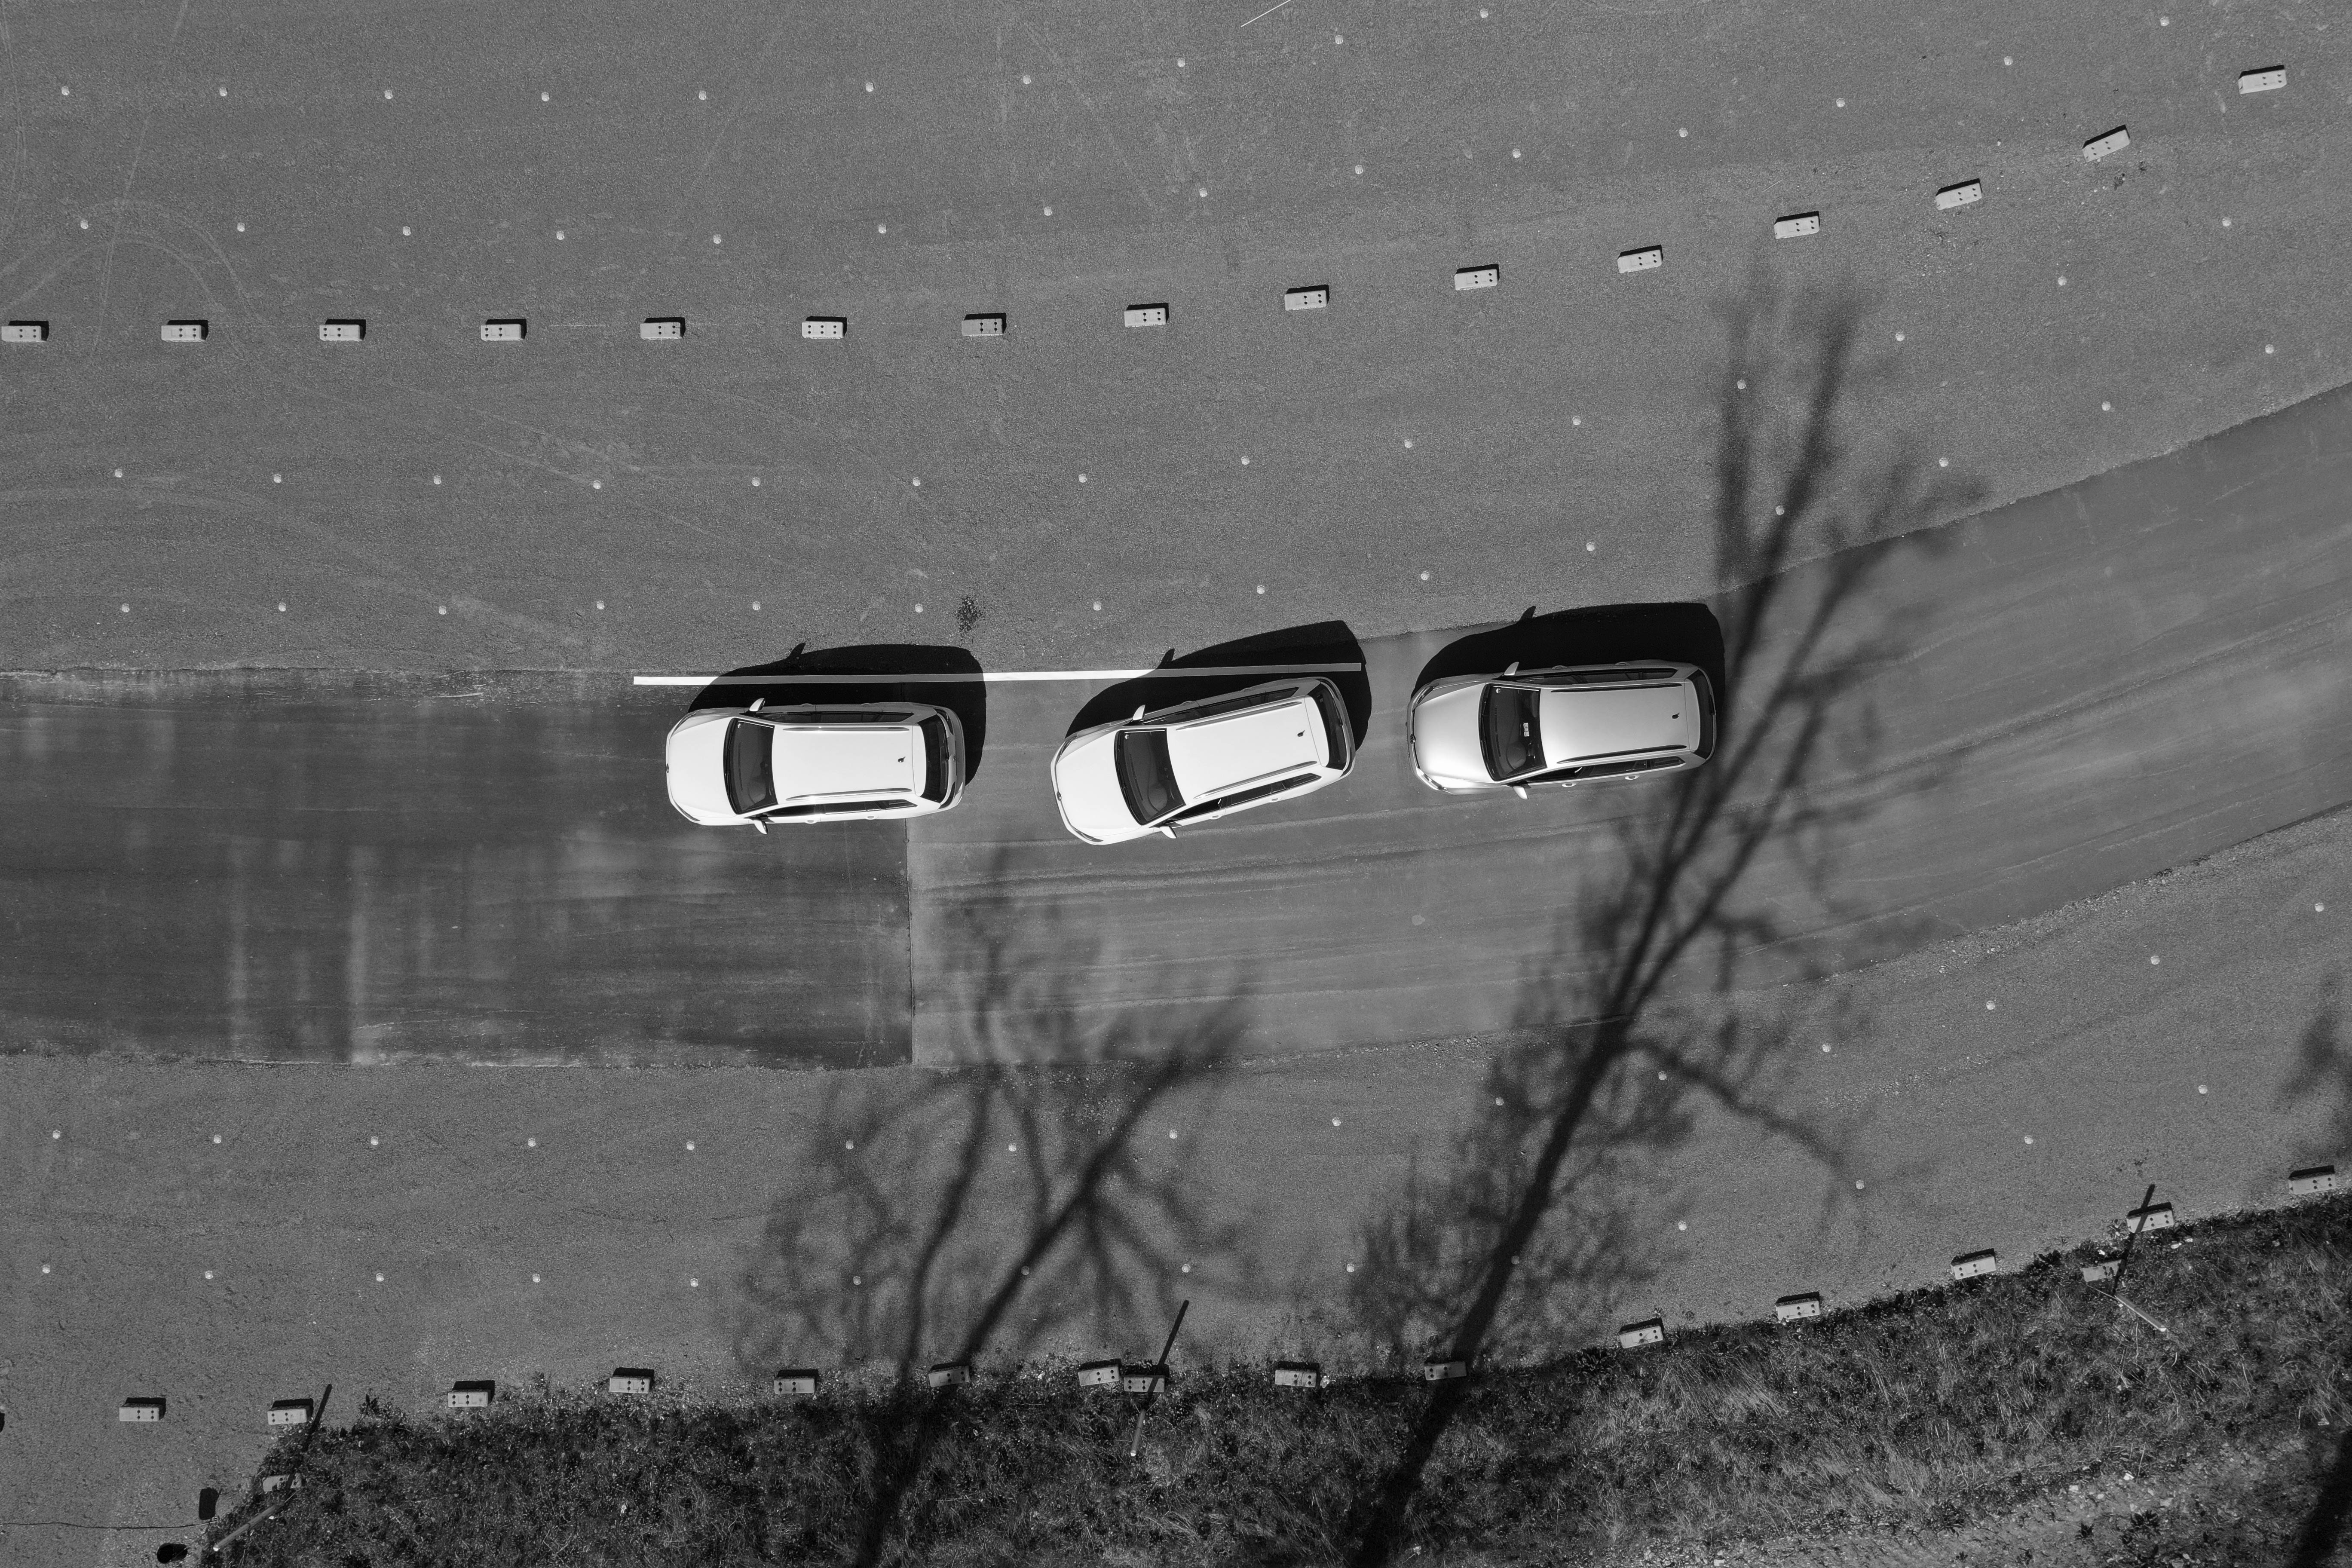Car: (1038, 677, 1360, 852), (1400, 656, 1727, 801), (656, 698, 969, 835)
LaneMark: (626, 661, 1368, 686)
